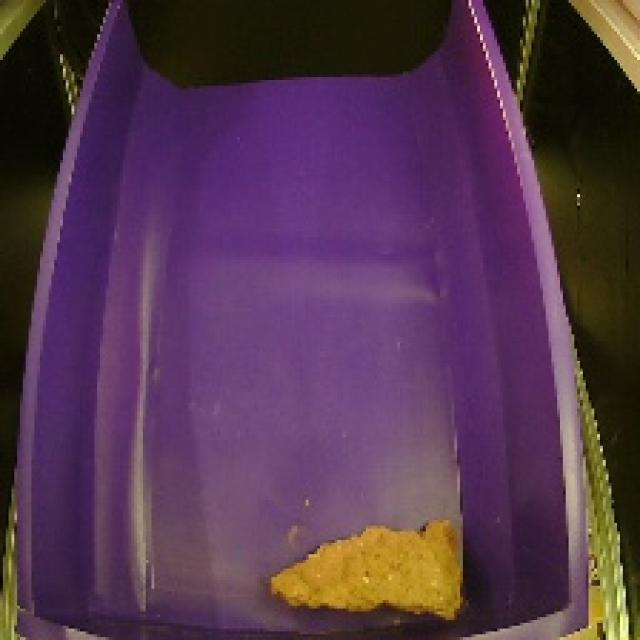brick: (261, 511, 472, 627)
